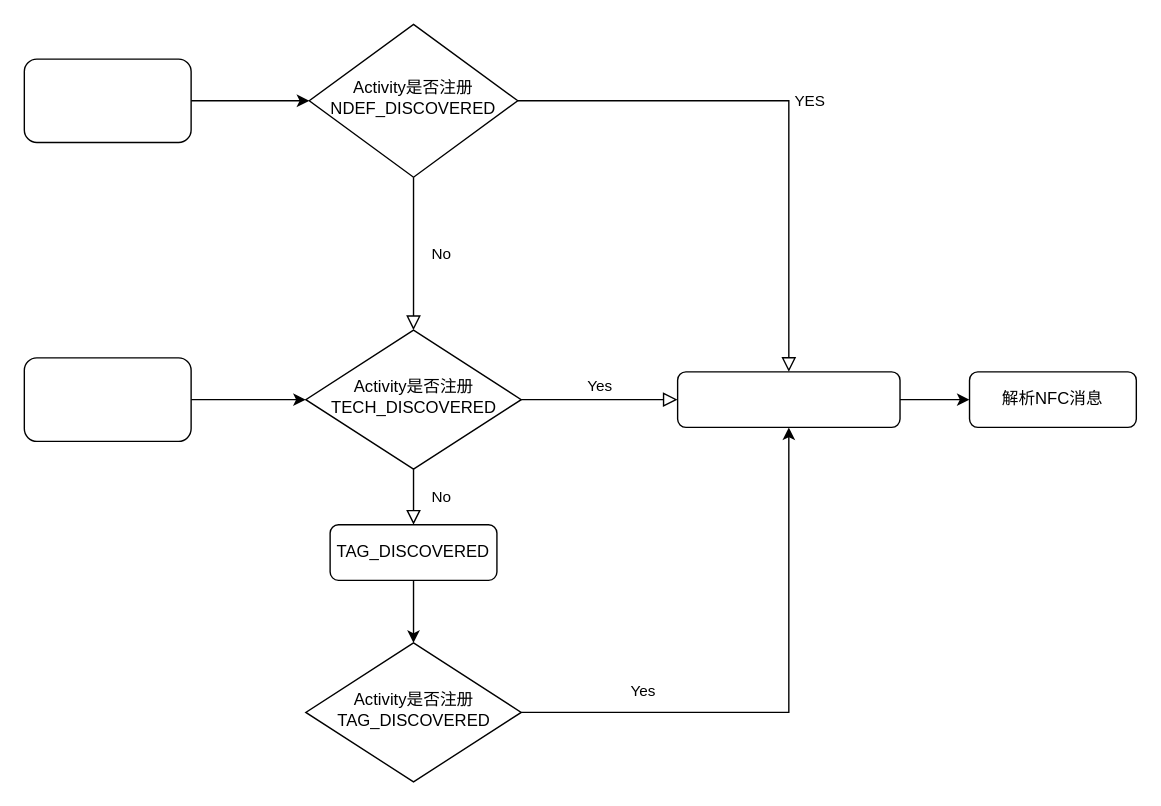
Image size: 1161x806. Some labels were removed from this diagram. Each missing label, with the centre of its shape:
"NDEF_DISCOVERED" belongs at point (107, 100).
"TECH_DISCOVERED" belongs at point (107, 399).
"发送NFC消息到该Activity" belongs at point (788, 398).
